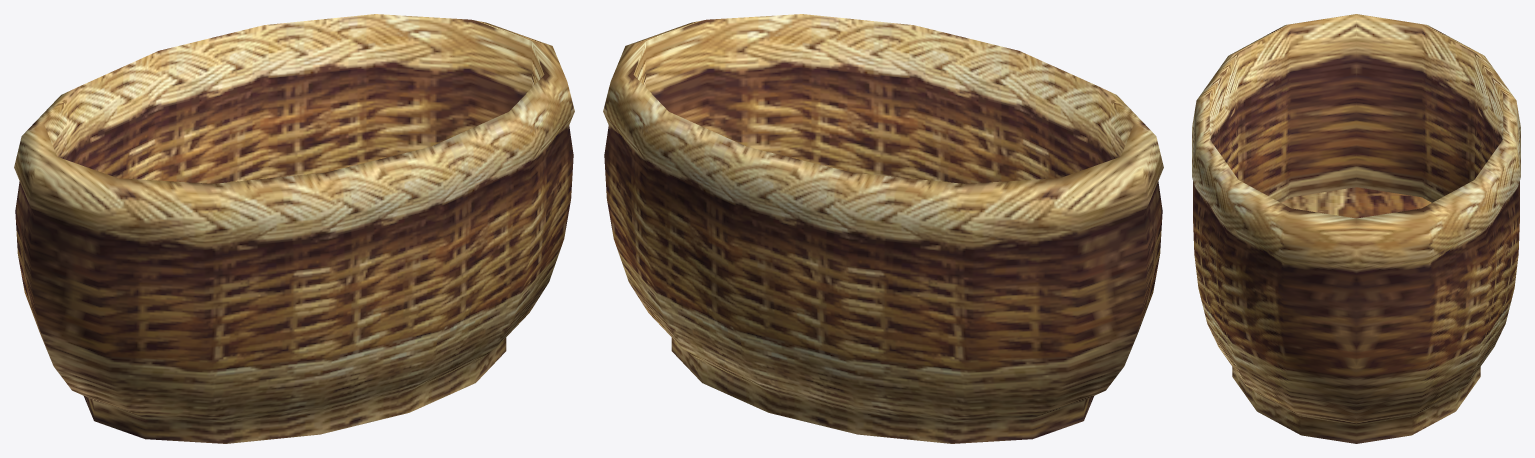
File: basket.dae
3 views of the same model, side by side, from view 1: azimuth 30°, elevation 25°; view 2: azimuth 150°, elevation 25°; view 3: azimuth 270°, elevation 25° (orthographic). The views are drawn at different scales.
Visible parts, largest first — view 1: meshU3D; view 2: meshU3D; view 3: meshU3D.
Part boxes in pixels (bbox=[...]): meshU3D: bbox=[14, 14, 574, 443]; meshU3D: bbox=[603, 14, 1163, 443]; meshU3D: bbox=[1192, 14, 1520, 443].
Bounding box in the file's own units: 36.46 × 17.95 × 22.16.
Materials: 1 (1 with a texture image).
